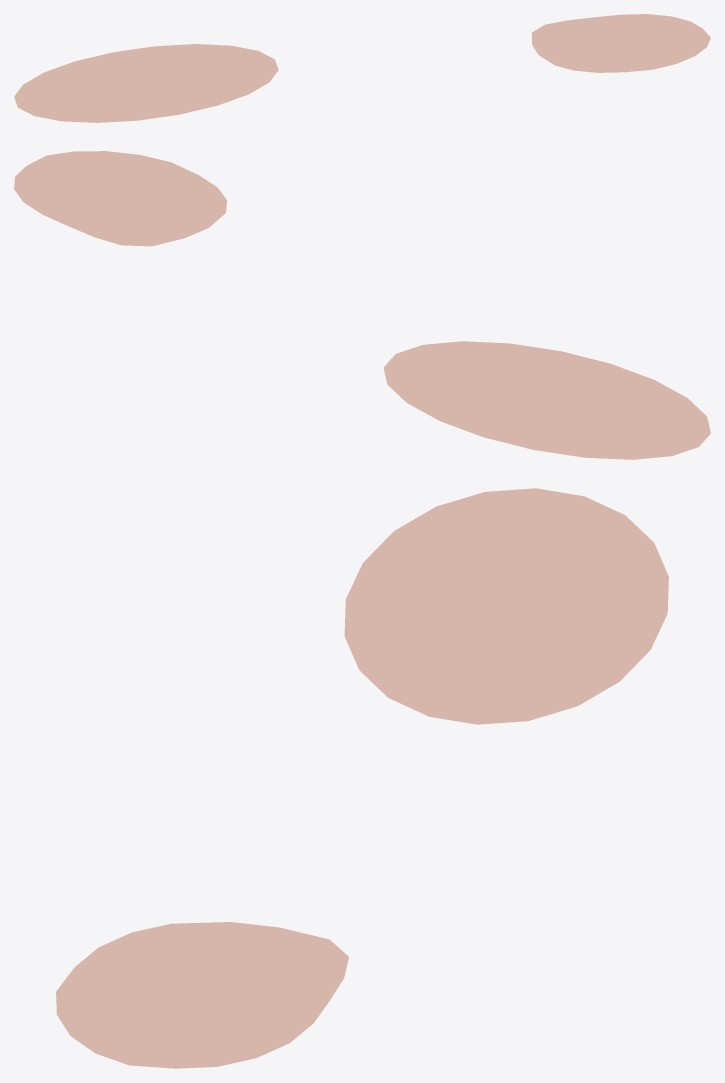
The model's file is Mesh_Adventure_Sand_Variant_Ground_06.fbx.
3 renders of one model, top to bottom at view 1: azimuth 30°, elevation 25°; view 2: azimuth 150°, elevation 25°; view 3: azimuth 270°, elevation 25°, orthographic. The views are drawn at different scales.
Visible parts, largest first — view 1: Mesh_Adventure_Sand_Variant_Ground_06; view 2: Mesh_Adventure_Sand_Variant_Ground_06; view 3: Mesh_Adventure_Sand_Variant_Ground_06.
Part boxes in pixels (x1,y1,x2,y2): Mesh_Adventure_Sand_Variant_Ground_06: (14,14,710,122); Mesh_Adventure_Sand_Variant_Ground_06: (14,151,710,459); Mesh_Adventure_Sand_Variant_Ground_06: (56,488,668,1068).
Bounding box in the file's own units: 66.04 × 4.77e-07 × 29.47.
Materials: 1 (1 with a texture image).
